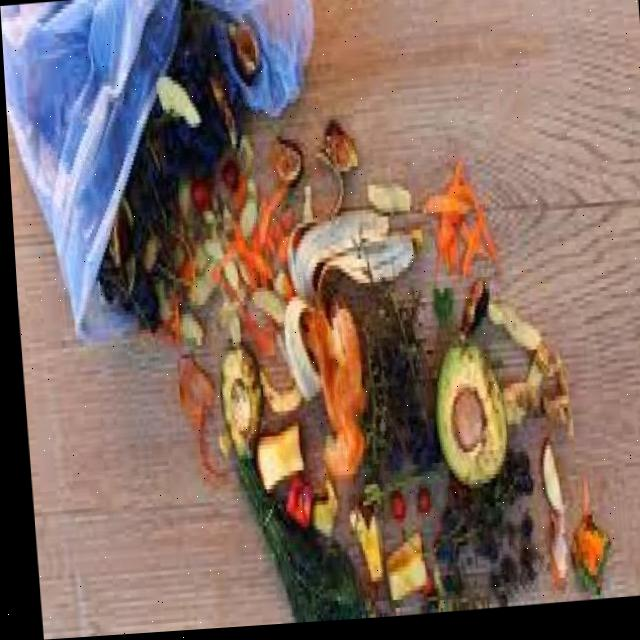Wet: (269, 183, 431, 493), (409, 336, 516, 494), (206, 342, 301, 492), (526, 444, 613, 607), (301, 301, 370, 490), (339, 491, 436, 619), (115, 208, 203, 345), (413, 173, 501, 295), (176, 158, 251, 228), (271, 471, 335, 551), (218, 5, 270, 88), (145, 70, 202, 140)
